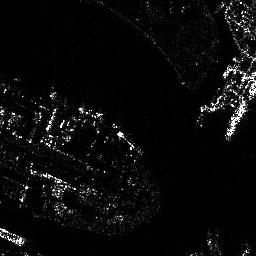ship: (225, 98, 247, 140), (1, 227, 26, 247)
